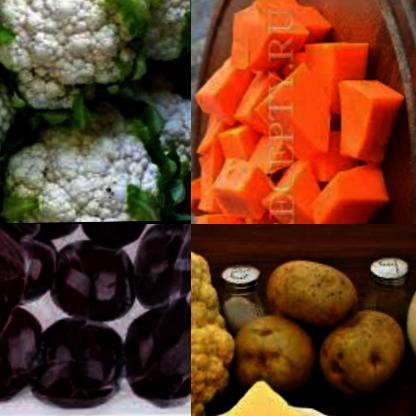beet: (32, 303, 132, 414), (48, 234, 144, 319), (127, 296, 191, 409), (120, 224, 191, 309), (0, 224, 64, 309), (0, 298, 49, 405), (82, 224, 146, 248)
cayliflower: (0, 97, 164, 223), (0, 0, 139, 129), (191, 231, 238, 416), (108, 0, 191, 75), (139, 78, 191, 197)
potato: (226, 257, 402, 397)
pumpkin: (191, 0, 397, 224)
